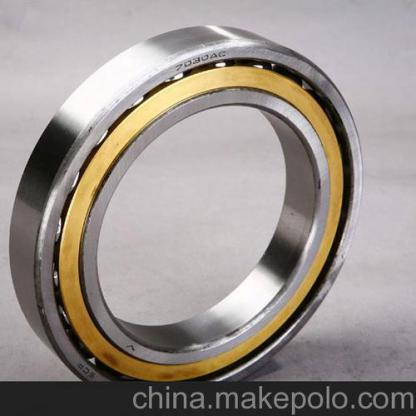FOD: (3, 20, 371, 382)
